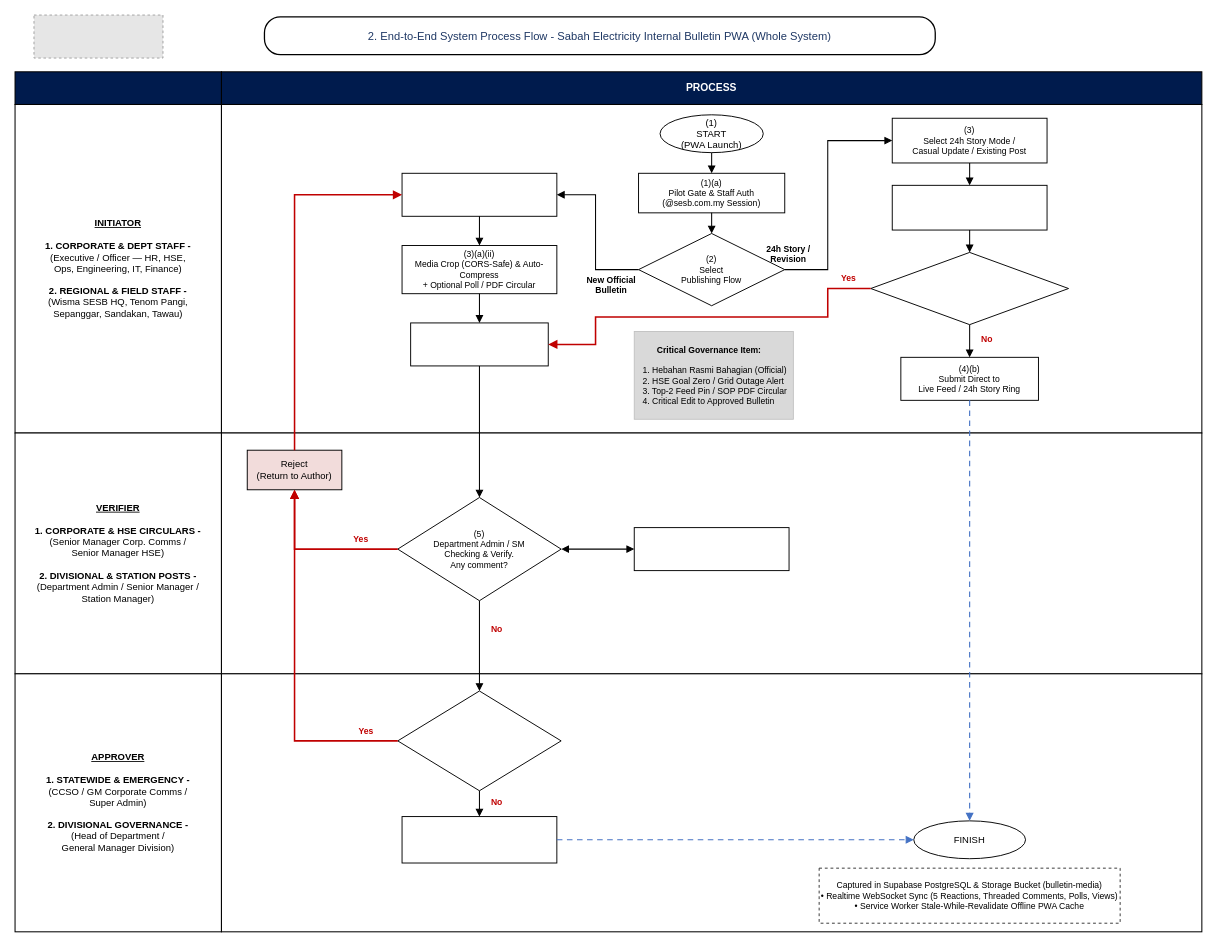
The diagram is 1218 pixels wide and 948 high, and some of its shapes have lost their labels. Grey dashed boxes stand in for pictures. Here are the shapes that lost their labels. From the top down, the box of each, then its label:
(14, 71, 222, 105): ROLES
(401, 172, 557, 216): (3)(a)(i) Bulletin Studio Data Entry (4 SESB Quick Templates & Dept Tag)
(891, 184, 1047, 230): (3)(b)(i) Data Entry: 9:16 Story Canvas, Brand Gradient, Quote or Edit
(870, 252, 1069, 325): (3)(b)(ii) Any Changes to Critical Governance Item?
(410, 322, 548, 366): (4)(a) Submit Official Bulletin / Revision for Verification
(633, 527, 789, 571): (5)(a) Configure Dept Controls: Toggle Comments ON/OFF & Thread Moderation
(397, 690, 561, 791): (6) GM / CCSO / Super Admin Checking & Approve. Any comment?
(401, 816, 557, 863): Approve, Pin (Max 2) & Dispatch Web Push Broadcast
